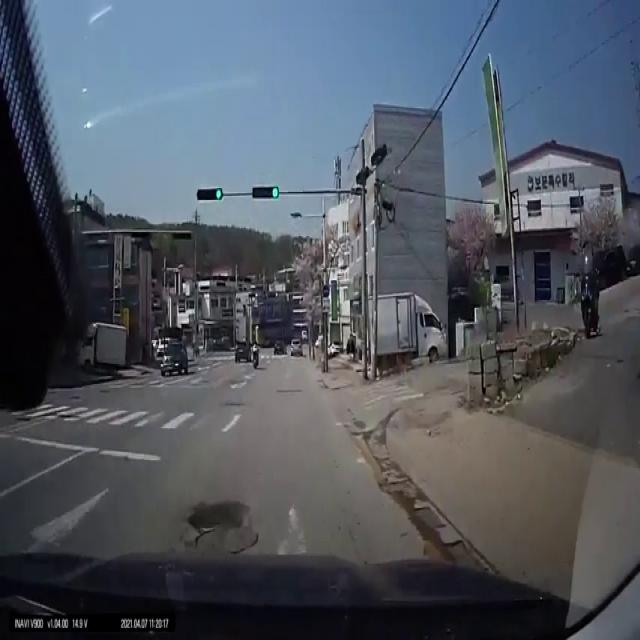Pothole: (188, 488, 250, 533)
